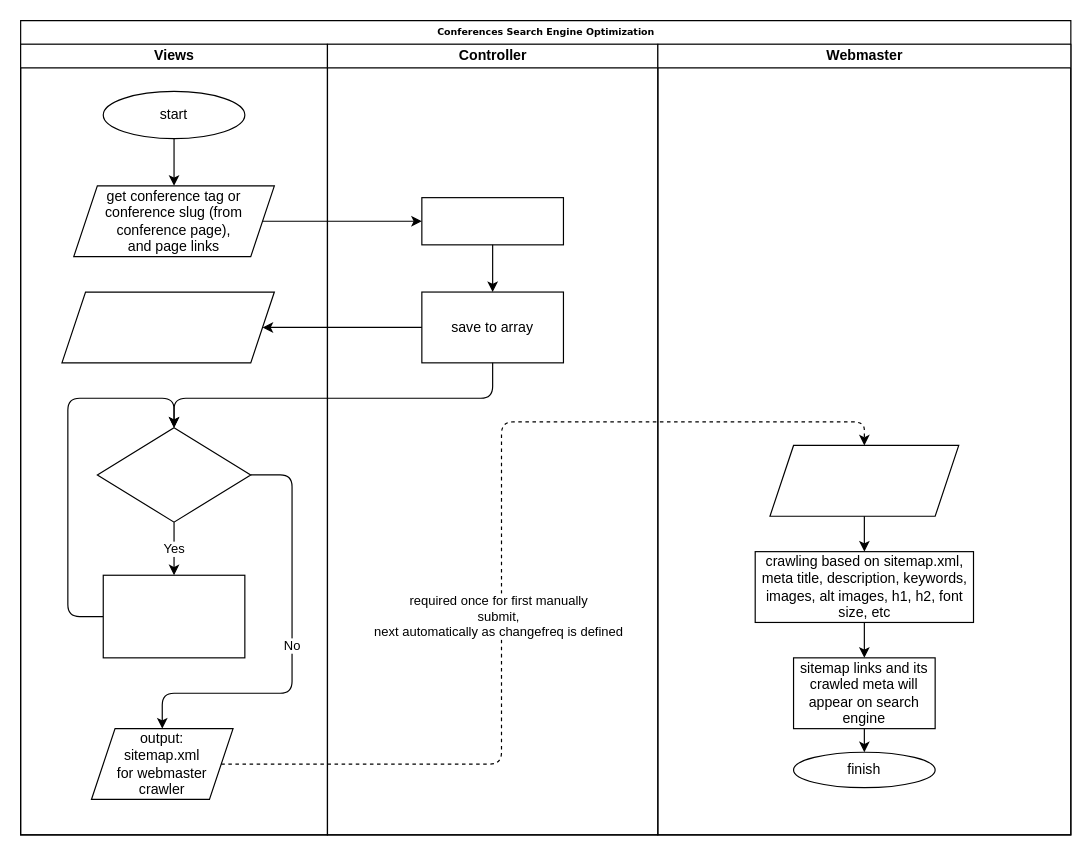
Some shapes in this 1092 by 855 pixel diagram are drawn without their labels. The box of each missing label's shape, as (x1, y1, x2, y2) in pixels:
load conference data: (421, 196, 563, 245)
output: meta conference image, title, description, keywords: (61, 291, 274, 363)
submit sitemap.xml to google search console, and bing webmaster: (769, 444, 959, 516)
while index < total count(array): (96, 427, 251, 522)
write conference slug (url), datetime, changefreq, and priority index++: (102, 574, 245, 658)
